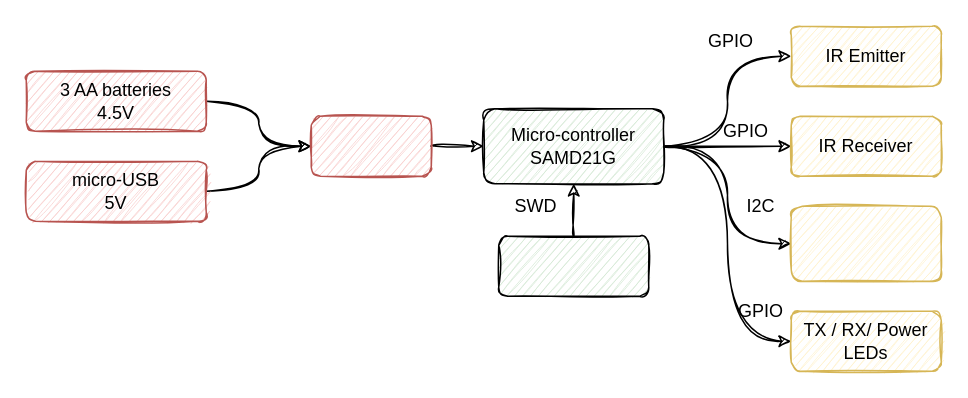
Some shapes in this 968 by 398 pixel diagram are drawn without their labels. The shapes that lost their labels are listed below. From the top down, each one's centre as x and y in pixels, then its label:
[370,145]: LDO 2.8V
[865,243]: Temperature / humidity sensor
[573,265]: Programming connector
